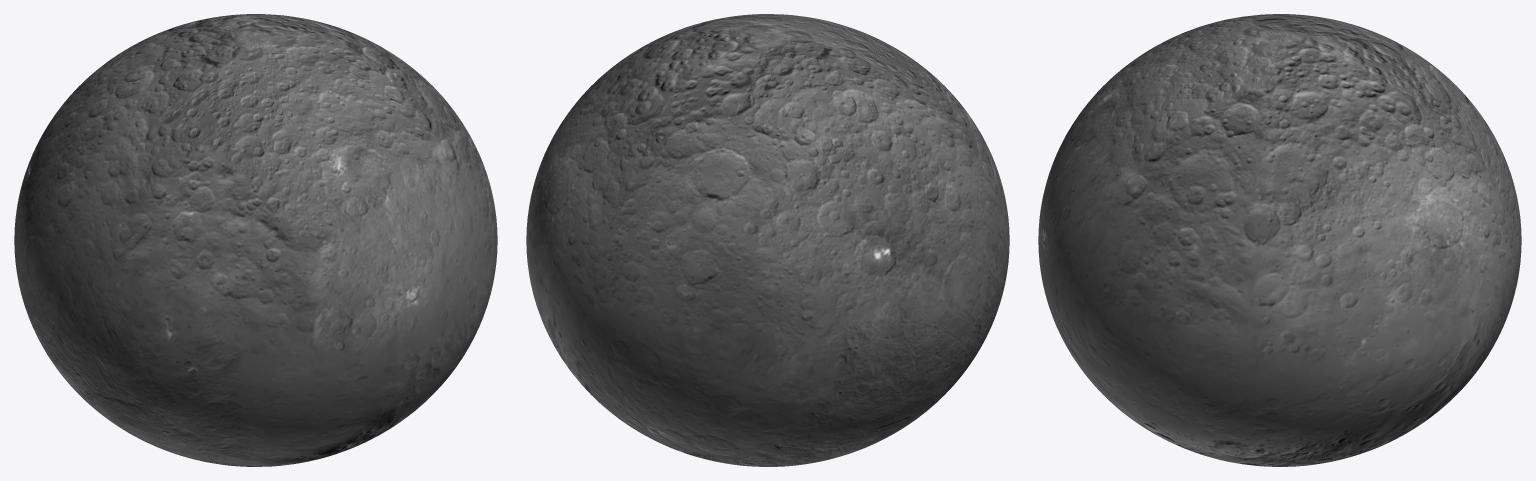
Rendered from ceres.glb.
3 views of the same model, side by side, from view 1: azimuth 30°, elevation 25°; view 2: azimuth 150°, elevation 25°; view 3: azimuth 270°, elevation 25° (orthographic).
Visible parts, largest first — view 1: cylindrically_mapped_sphere; view 2: cylindrically_mapped_sphere; view 3: cylindrically_mapped_sphere.
Boxes of the visible parts, x1,y1,x2,y2 form: cylindrically_mapped_sphere: (14, 14, 497, 466); cylindrically_mapped_sphere: (526, 14, 1009, 466); cylindrically_mapped_sphere: (1038, 14, 1521, 466).
Bounding box in the file's own units: 946 × 873 × 946.
Materials: 1 (1 with a texture image).
